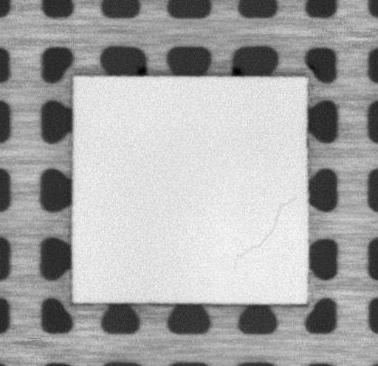DIE_CRACK: (232, 195, 297, 269)
